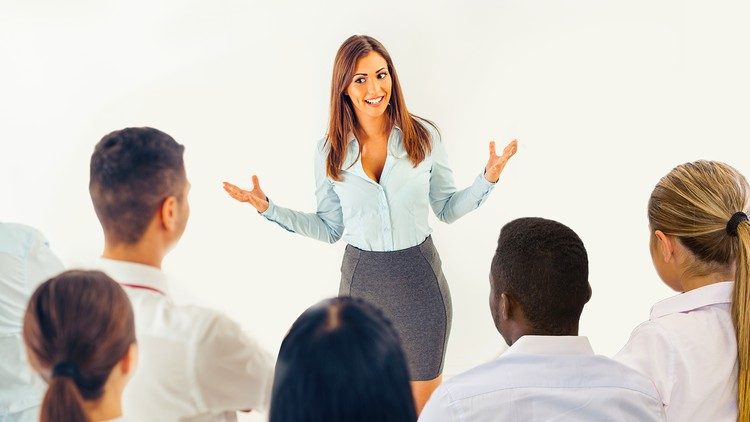Person: (232, 27, 498, 353), (635, 153, 750, 422), (463, 216, 609, 422), (61, 119, 230, 259)
